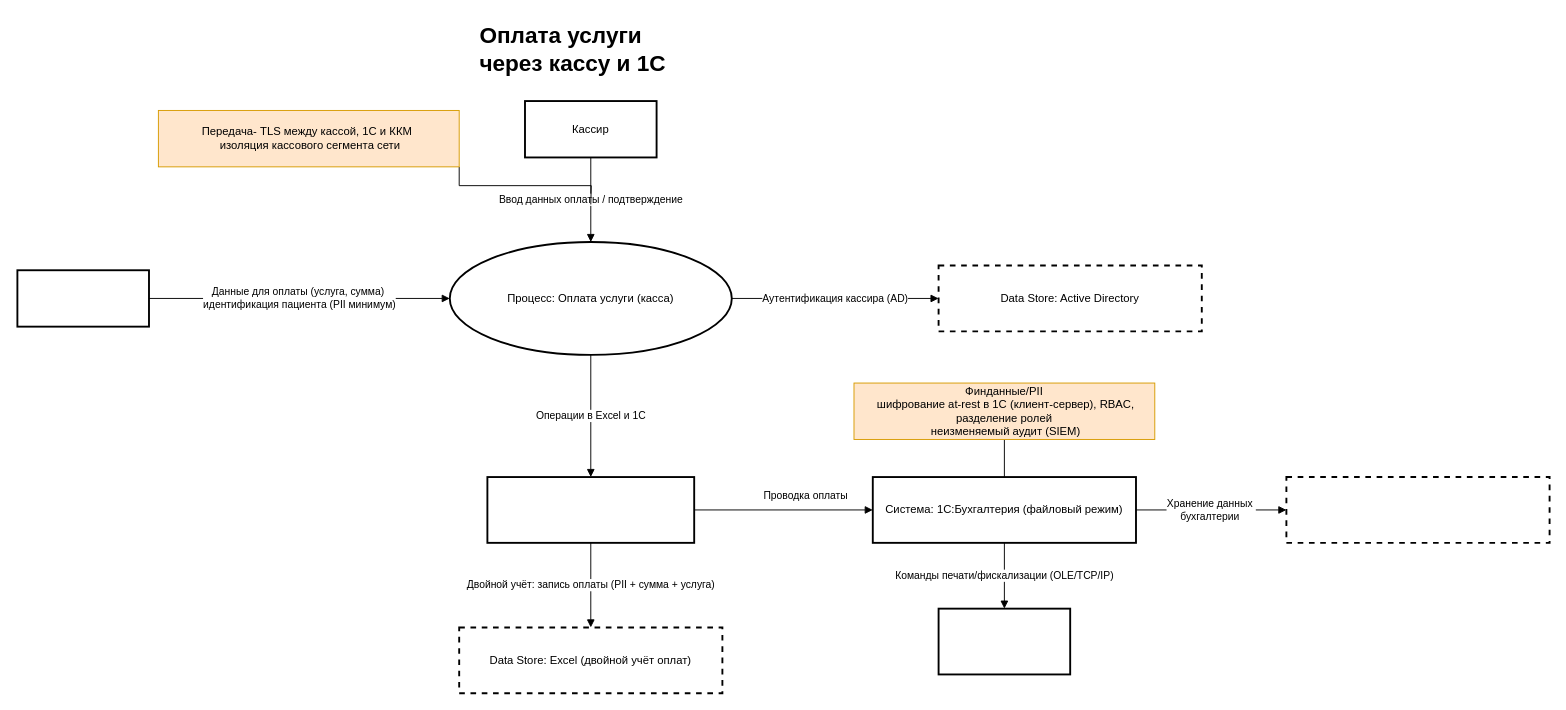
The diagram is 1566 pixels wide and 710 high, and some of its shapes have lost their labels. The centre of each missing label's shape, as x and y in pixels:
"Data Store: Файлы базы 1С (на сервере)" belongs at (1417,509).
"Пациент" belongs at (82,298).
"Система: ККМ (касса)" belongs at (1004,641).
"Система: ПК кассира (Excel + 1С клиент)" belongs at (590,509).
